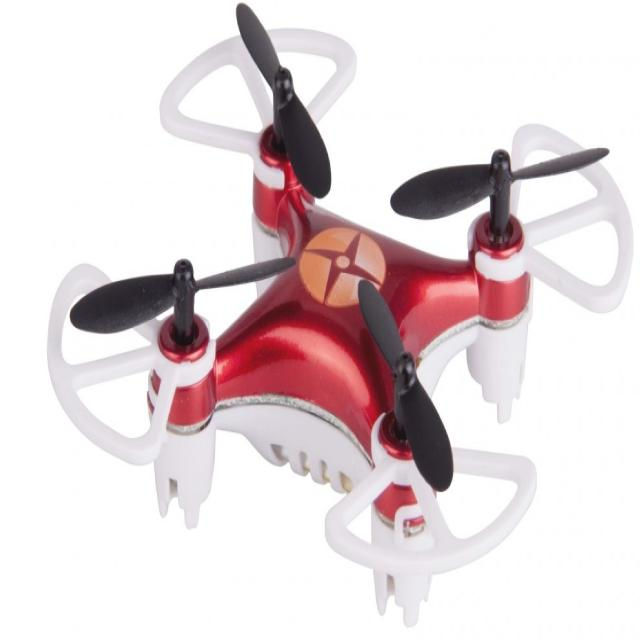drone: (47, 28, 636, 612)
